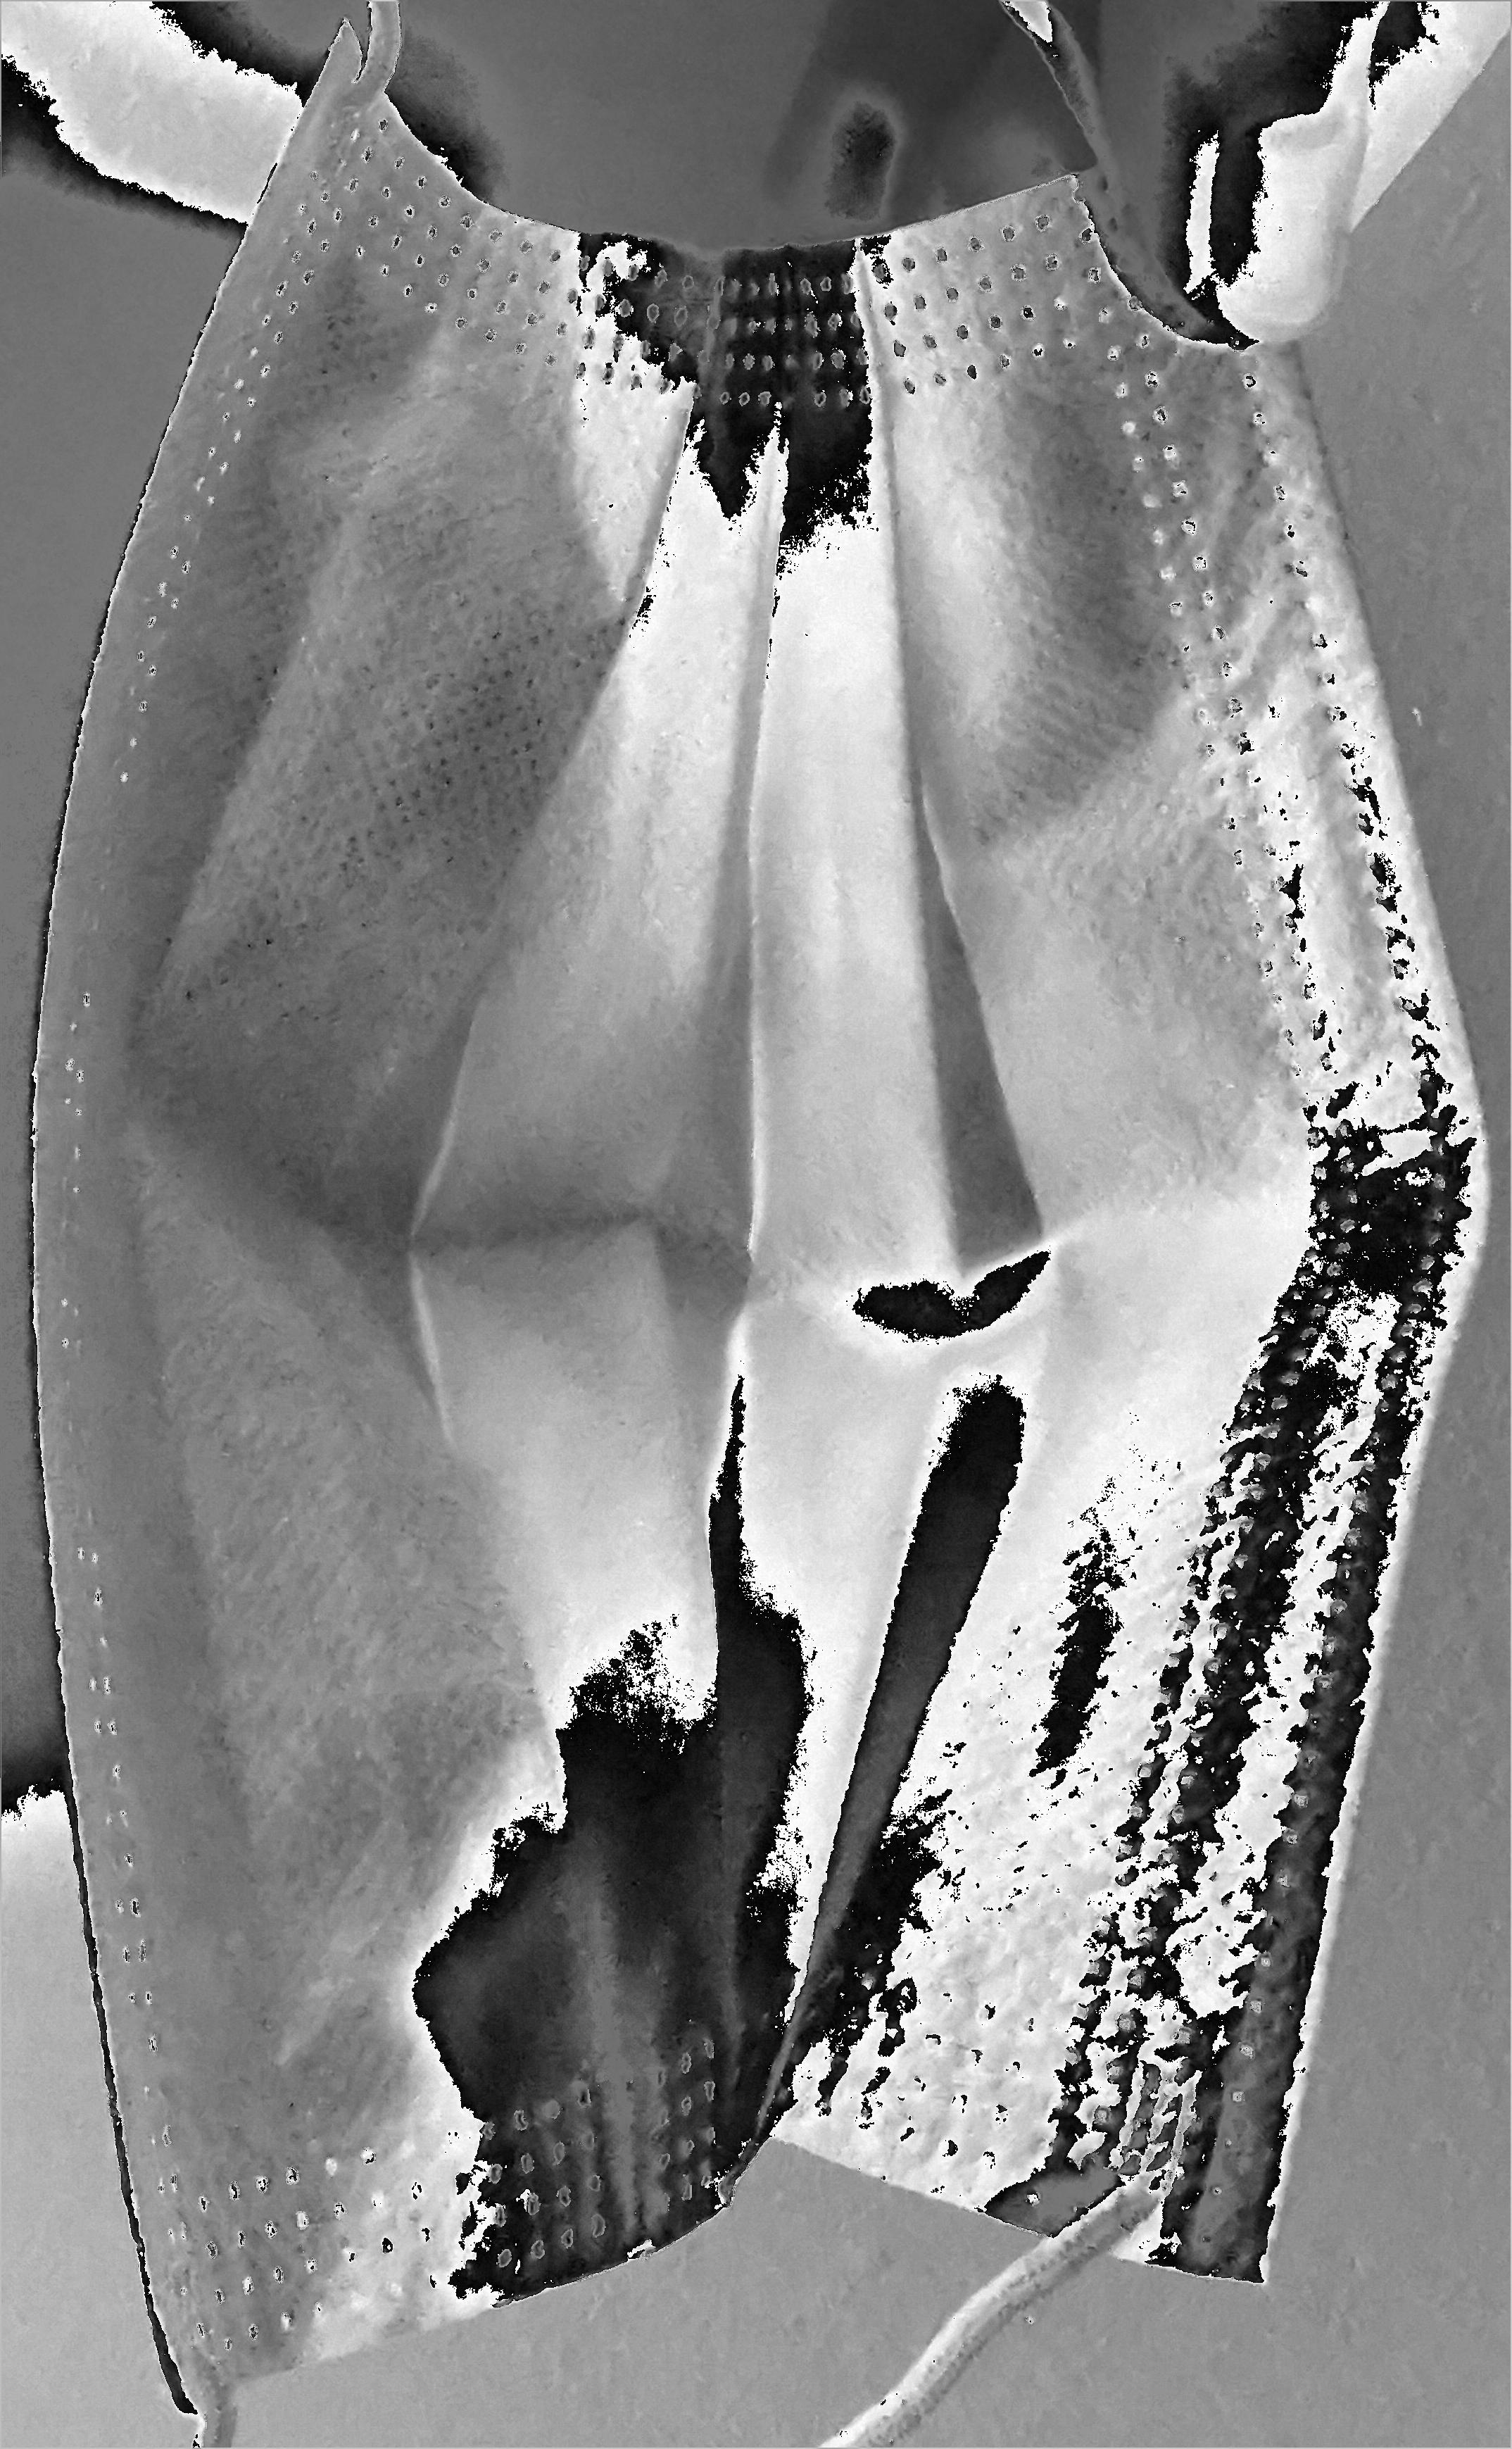Low GSM: (262, 416, 1089, 2089)
Undefined Area: (986, 2, 1346, 353)
